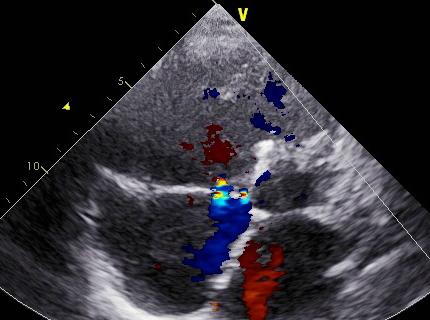TR: (179, 175, 269, 243)
